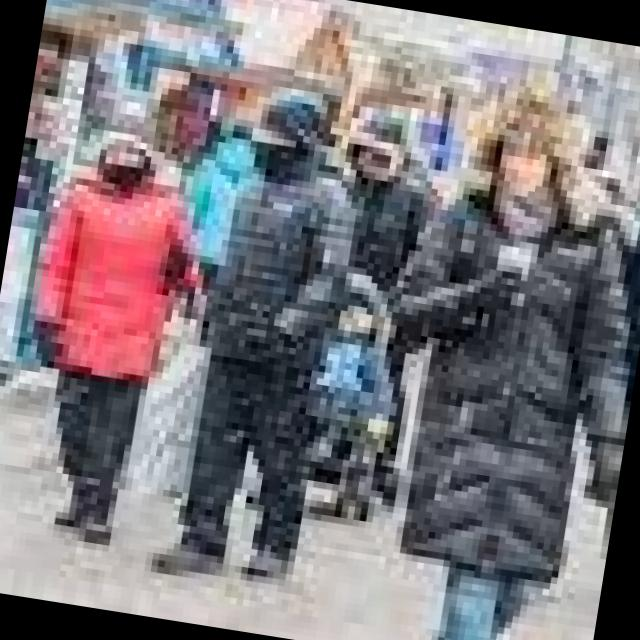Jacket: (369, 169, 640, 595), (17, 169, 212, 394), (188, 158, 372, 376)
